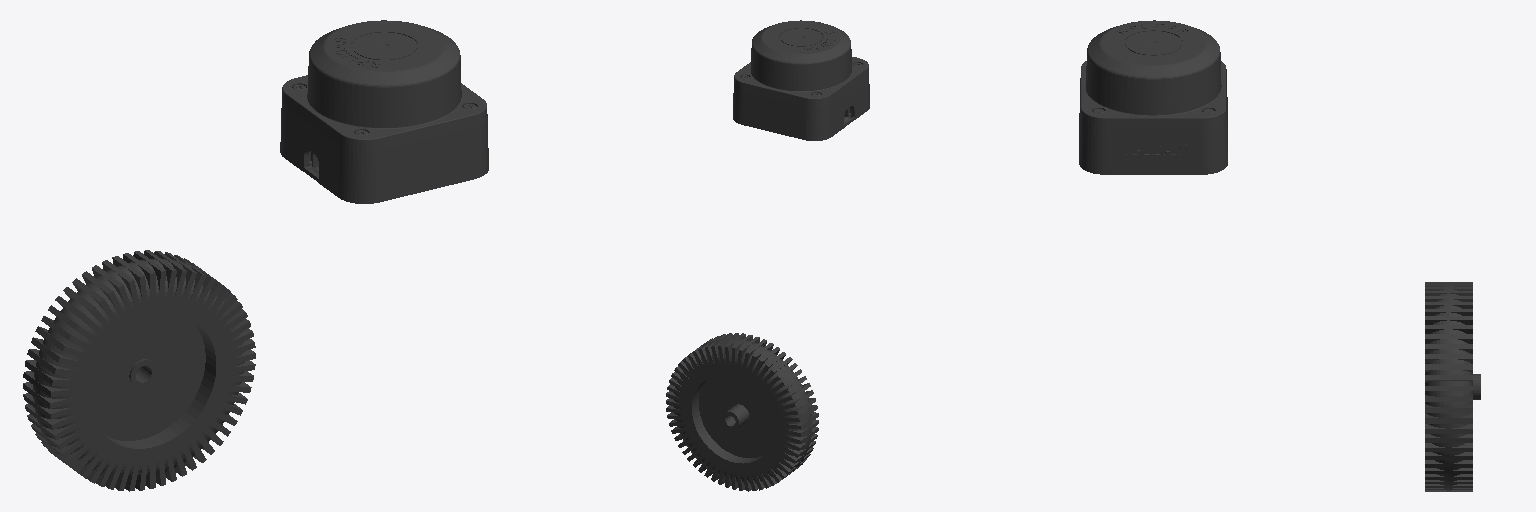
URDF robot description (wafflebot):
<?xml version="1.0" ?>
<robot name="wafflebot"
  xmlns:xacro="http://ros.org/wiki/xacro">
  <!-- <xacro:include filename="$(find wafflebot_description)/urdf/common_properties.urdf"/> -->

  <!-- Init colour -->
  <material name="black">
      <color rgba="0.0 0.0 0.0 1.0"/>
  </material>

  <material name="dark">
    <color rgba="0.3 0.3 0.3 1.0"/>
  </material>

  <material name="light_black">
    <color rgba="0.4 0.4 0.4 1.0"/>
  </material>

  <material name="blue">
    <color rgba="0.0 0.0 0.8 1.0"/>
  </material>

  <material name="green">
    <color rgba="0.0 0.8 0.0 1.0"/>
  </material>

  <material name="grey">
    <color rgba="0.5 0.5 0.5 1.0"/>
  </material>

  <material name="orange">
    <color rgba="1.0 0.4235 0.0392 1.0"/>
  </material>

  <material name="brown">
    <color rgba="0.8706 0.8118 0.7647 1.0"/>
  </material>

  <material name="red">
    <color rgba="0.8 0.0 0.0 1.0"/>
  </material>

  <material name="white">
    <color rgba="1.0 1.0 1.0 1.0"/>
  </material>

  <link name="base_footprint"/>

  <joint name="base_joint" type="fixed">
    <parent link="base_footprint"/>
    <child link="base_link"/>
    <origin xyz="0.0 0.0 0.010" rpy="0 0 0"/>
  </joint>

  <link name="base_link">
    <visual>
      <origin xyz="-0.032 0 0.03" rpy="0 0 0"/>
      <geometry>
        <mesh filename="package://wafflebot_description/meshes/burger_base.stl" scale="0.001 0.001 0.001"/>
      </geometry>
      <material name="light_black"/>
    </visual>

    <collision>
      <origin xyz="-0.032 0 0.070" rpy="0 0 0"/>
      <geometry>
        <box size="0.140 0.140 0.143"/>
      </geometry>
    </collision>

    <inertial>
      <origin xyz="0 0 0" rpy="0 0 0"/>
      <mass value="8.2573504e-01"/>
      <inertia ixx="2.2124416e-03" ixy="-1.2294101e-05" ixz="3.4938785e-05" iyy="2.1193702e-03" iyz="-5.0120904e-06" izz="2.0064271e-03" />
    </inertial>
  </link>

  <joint name="wheel_left_joint" type="continuous">
    <parent link="base_link"/>
    <child link="wheel_left_link"/>
    <origin xyz="-0.051 0.11 0.031" rpy="-1.57 0 0"/>
    <axis xyz="0 0 1"/>
  </joint>

  <link name="wheel_left_link">
    <visual>
      <origin xyz="0 0 0" rpy="1.57 0 0"/>
      <geometry>
        <mesh filename="package://wafflebot_description/meshes/left_tire.stl" scale="0.001 0.001 0.001"/>
      </geometry>
      <material name="dark"/>
    </visual>

    <collision>
      <origin xyz="0 0 0" rpy="0 0 0"/>
      <geometry>
        <cylinder length="0.018" radius="0.033"/>
      </geometry>
    </collision>

    <inertial>
      <origin xyz="0 0 0" />
      <mass value="2.8498940e-02" />
      <inertia ixx="1.1175580e-05" ixy="-4.2369783e-11" ixz="-5.9381719e-09" iyy="1.1192413e-05" iyz="-1.4400107e-11" izz="2.0712558e-05" />
    </inertial>
  </link>

  <joint name="wheel_right_joint" type="continuous">
    <parent link="base_link"/>
    <child link="wheel_right_link"/>
    <origin xyz="-0.051 -0.11 0.031" rpy="-1.57 0 0"/>
    <axis xyz="0 0 1"/>
  </joint>

  <link name="wheel_right_link">
    <visual>
      <origin xyz="0 0 0" rpy="1.57 0 0"/>
      <geometry>
        <mesh filename="package://wafflebot_description/meshes/right_tire.stl" scale="0.001 0.001 0.001"/>
      </geometry>
      <material name="dark"/>
    </visual>

    <collision>
      <origin xyz="0 0 0" rpy="0 0 0"/>
      <geometry>
        <cylinder length="0.018" radius="0.033"/>
      </geometry>
    </collision>

    <inertial>
      <origin xyz="0 0 0" />
      <mass value="2.8498940e-02" />
      <inertia ixx="1.1175580e-05" ixy="-4.2369783e-11" ixz="-5.9381719e-09" iyy="1.1192413e-05" iyz="-1.4400107e-11" izz="2.0712558e-05" />
    </inertial>
  </link>

  <joint name="caster_back_joint" type="fixed">
    <parent link="base_link"/>
    <child link="caster_back_link"/>
    <origin xyz="-0.081 0 -0.004" rpy="-1.57 0 0"/>
  </joint>

  <link name="caster_back_link">
    <collision>
      <origin xyz="0 0.001 0" rpy="0 0 0"/>
      <geometry>
        <box size="0.030 0.009 0.020"/>
      </geometry>
    </collision>

    <inertial>
      <origin xyz="0 0 0" />
      <mass value="0.005" />
      <inertia ixx="0.001" ixy="0.0" ixz="0.0" iyy="0.001" iyz="0.0" izz="0.001" />
    </inertial>
  </link>

  <joint name="imu_joint" type="fixed">
    <parent link="base_link"/>
    <child link="imu_link"/>
    <origin xyz="-0.032 0 0.068" rpy="0 0 0"/>
  </joint>

  <link name="imu_link"/>

  <joint name="scan_joint" type="fixed">
    <parent link="base_link"/>
    <child link="base_scan"/>
    <origin xyz="-0.0215 0 0.145" rpy="0 0 0"/>
  </joint>

  <link name="base_scan">
    <visual>
      <origin xyz="0 0 0.0" rpy="0 0 0"/>
      <geometry>
        <mesh filename="package://wafflebot_description/meshes/lds.stl" scale="0.001 0.001 0.001"/>
      </geometry>
      <material name="dark"/>
    </visual>

    <collision>
      <origin xyz="0.015 0 -0.0065" rpy="0 0 0"/>
      <geometry>
        <cylinder length="0.0315" radius="0.055"/>
      </geometry>
    </collision>

    <inertial>
      <mass value="0.114" />
      <origin xyz="0 0 0" />
      <inertia ixx="0.001" ixy="0.0" ixz="0.0" iyy="0.001" iyz="0.0" izz="0.001" />
    </inertial>
  </link>

</robot>

--- Render facts (derived) ---
The picture shows the robot from 3 angles, left to right: view 1: azimuth 30°, elevation 25°; view 2: azimuth 150°, elevation 25°; view 3: azimuth 270°, elevation 25°; orthographic projection.
Model wafflebot with 7 links and 6 joints (2 continuous, 4 fixed), rooted at base_footprint, posed every joint at zero.
Visible links, largest first — view 1: wheel_left_link, base_scan; view 2: wheel_left_link, base_scan; view 3: base_scan, wheel_left_link.
Boxes of the visible links, bbox=[...] form: wheel_left_link: bbox=[23, 250, 255, 491]; base_scan: bbox=[280, 20, 488, 203]; wheel_left_link: bbox=[666, 333, 818, 491]; base_scan: bbox=[733, 20, 869, 140]; base_scan: bbox=[1079, 20, 1227, 174]; wheel_left_link: bbox=[1425, 282, 1480, 491].
Size in the robot's own frame: 0.0963 by 0.1498 by 0.1943 metres.
2 mesh visuals loaded from 4 distinct referenced files (2 binary STL); not drawn: 2 (reference not matched to a file when rendering).